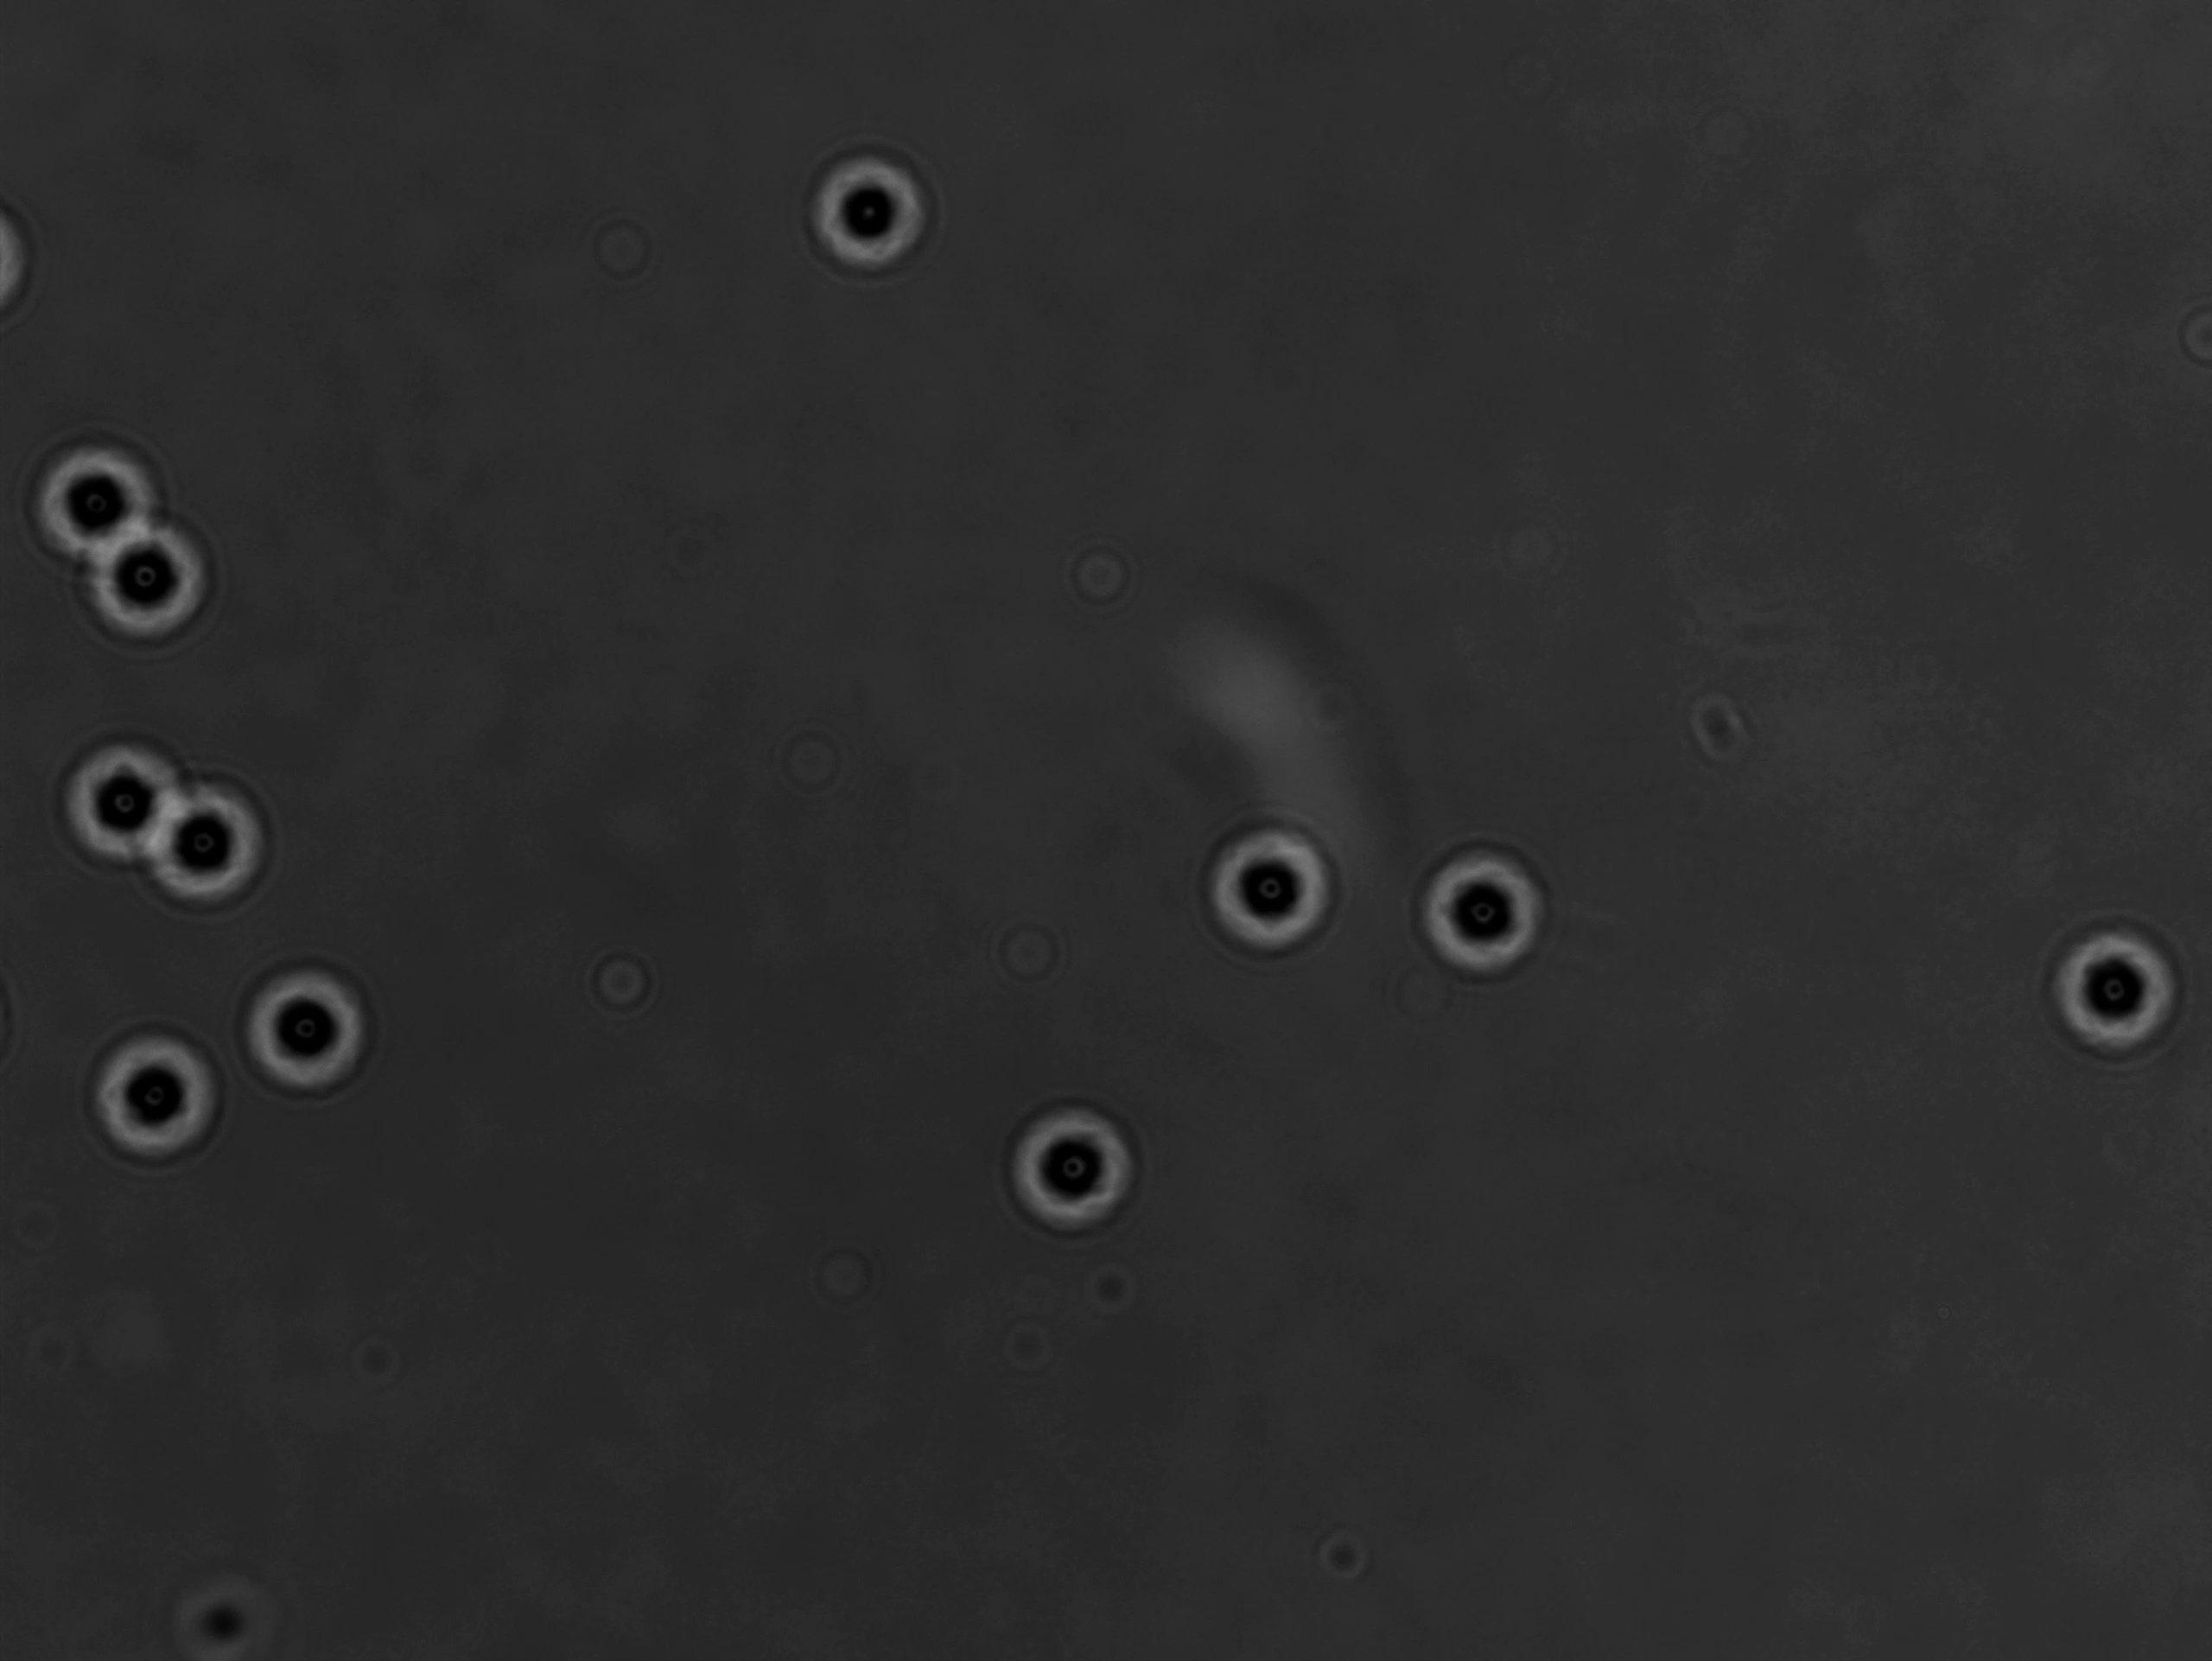depth:-20: (1394, 829, 1574, 1000), (994, 1085, 1171, 1244), (1188, 806, 1355, 972), (2034, 907, 2196, 1078), (790, 126, 952, 288), (10, 415, 178, 567), (84, 1017, 249, 1165), (51, 721, 202, 881), (223, 958, 382, 1101), (138, 764, 286, 914), (84, 513, 230, 656)
